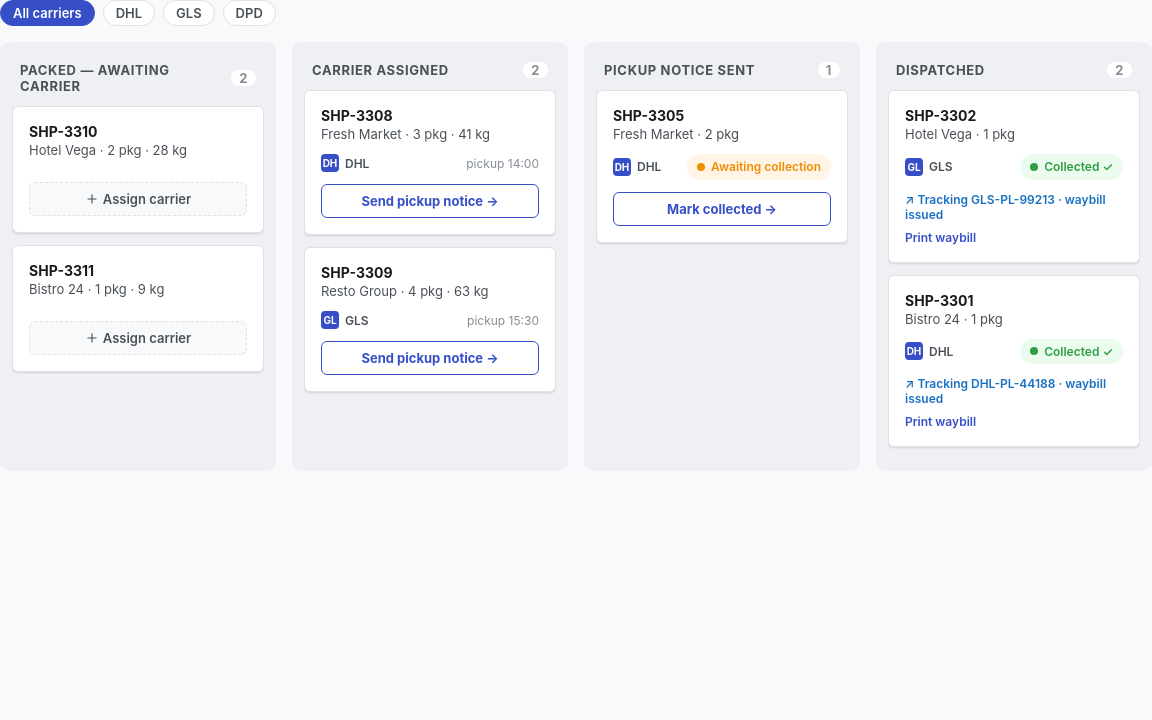
Scenario: DispatchScreen › assigns a carrier and moves the shipment off the packed queue
Expected: the text "Packed — awaiting carrier" is shown, [20,62,170,94]
Click the button "Assign carrier" below "2 pkg · 28 kg" at (138, 199), box [29,182,247,216]
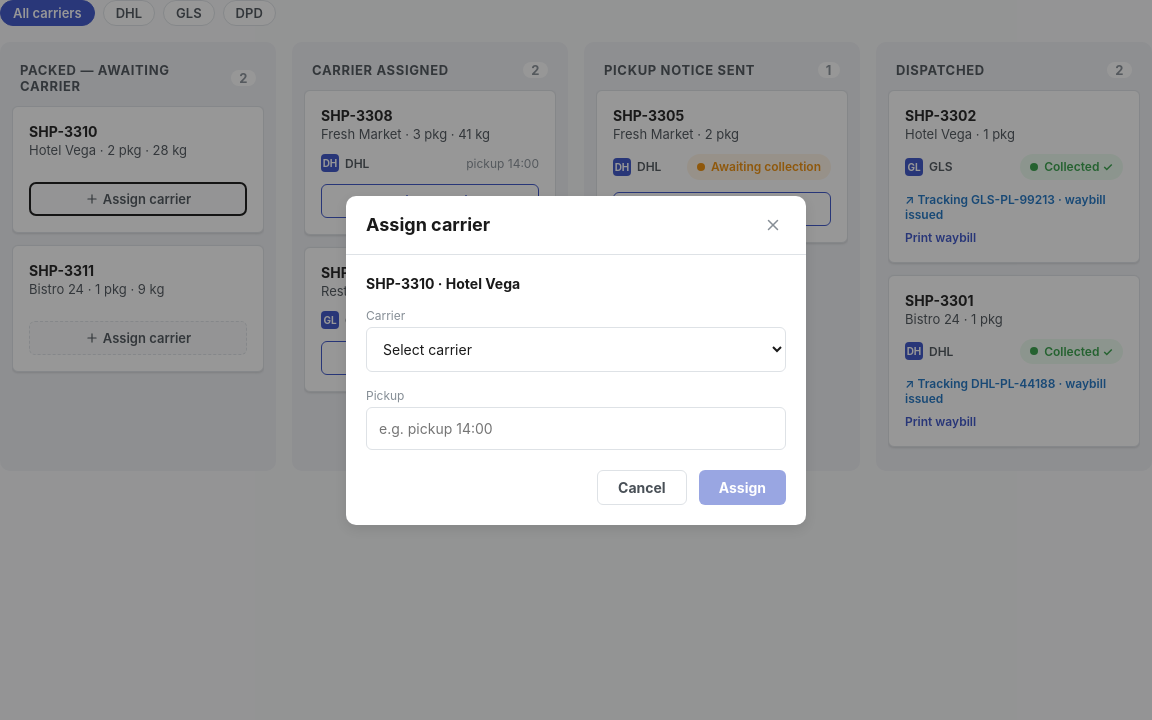
Now the button "Assign" is disabled, box [699,470,786,504]
Select "DHL" in the dropdown labelled "Carrier" at (576, 349), box [366,326,786,372]
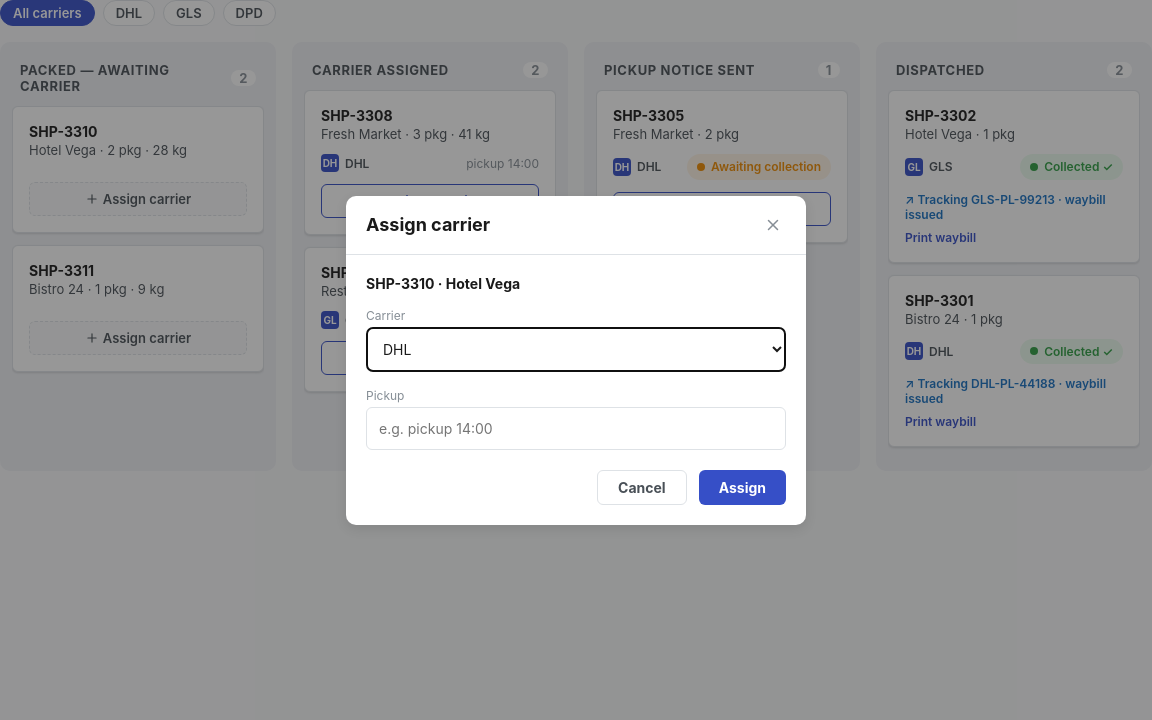
Click the button "Assign" at (742, 487), box [699,470,786,504]
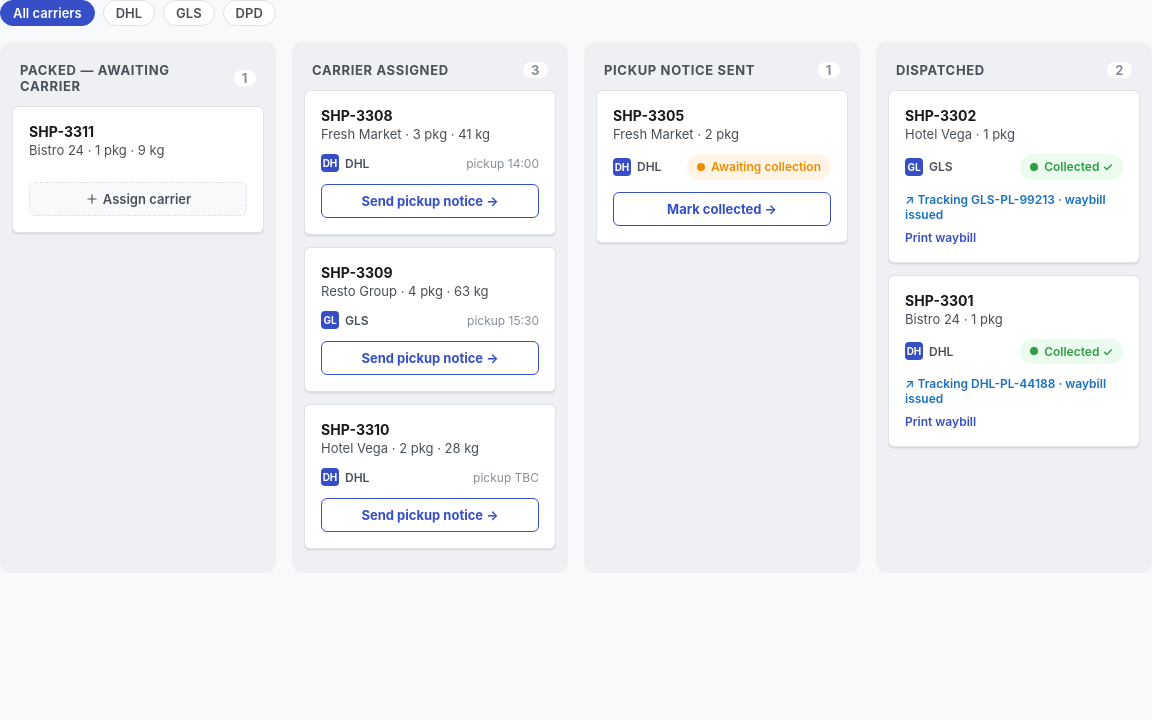
Now the number of buttons "Assign carrier" is 1, box [29,182,247,216]
